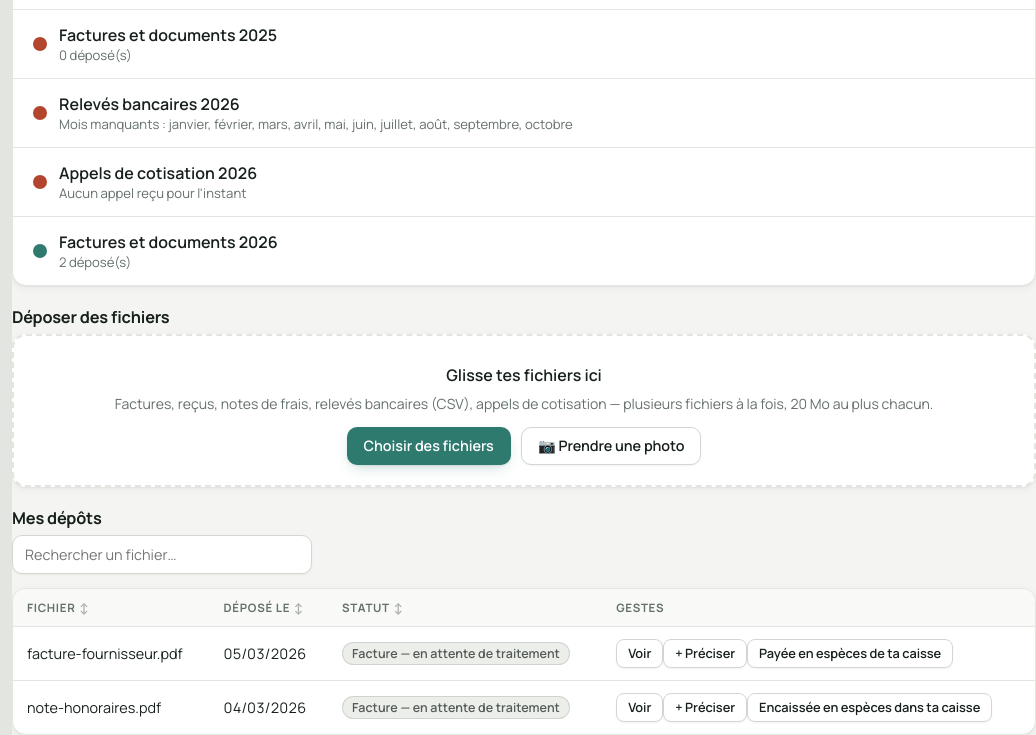
Test: le drapeau levé › après un geste, la liste se relit avec la caisse
(page scrolled)
Expected: the text "facture-fournisseur.pdf" is shown, [13,626,210,680]
Click the button "Payée en espèces de ta caisse".
click(850, 653)  # box [747,639,953,668]
(page scrolled)
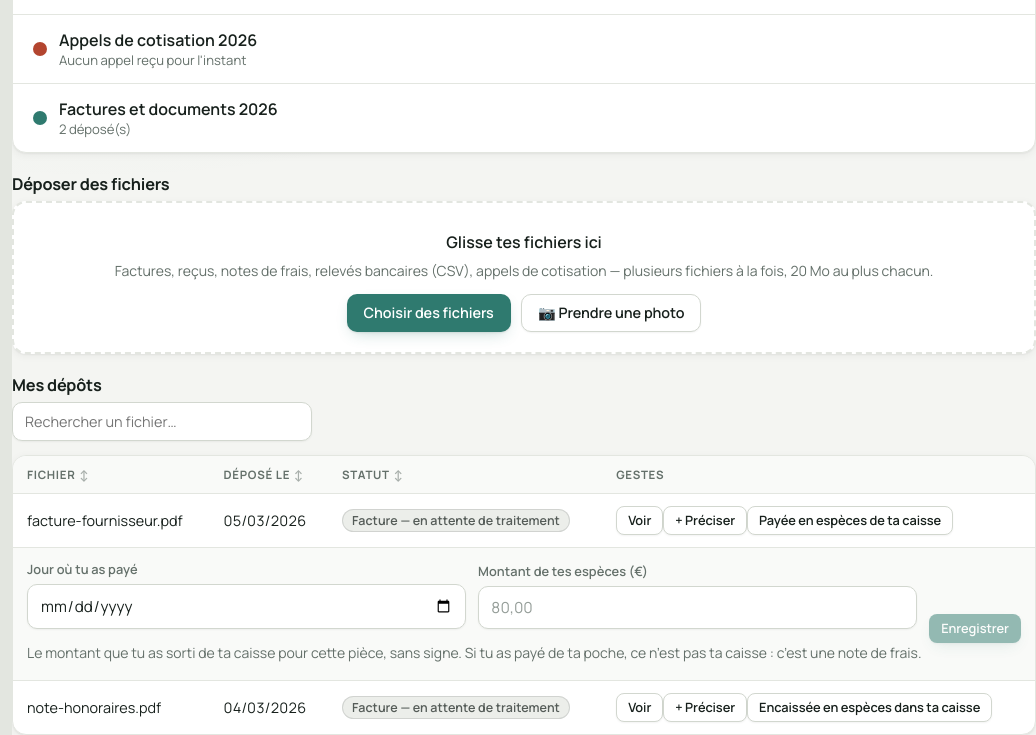
Type "2026-03-12" into the date field labelled "Jour où tu as payé".
click(247, 606); type("2026-03-12")  # box [27,584,466,629]
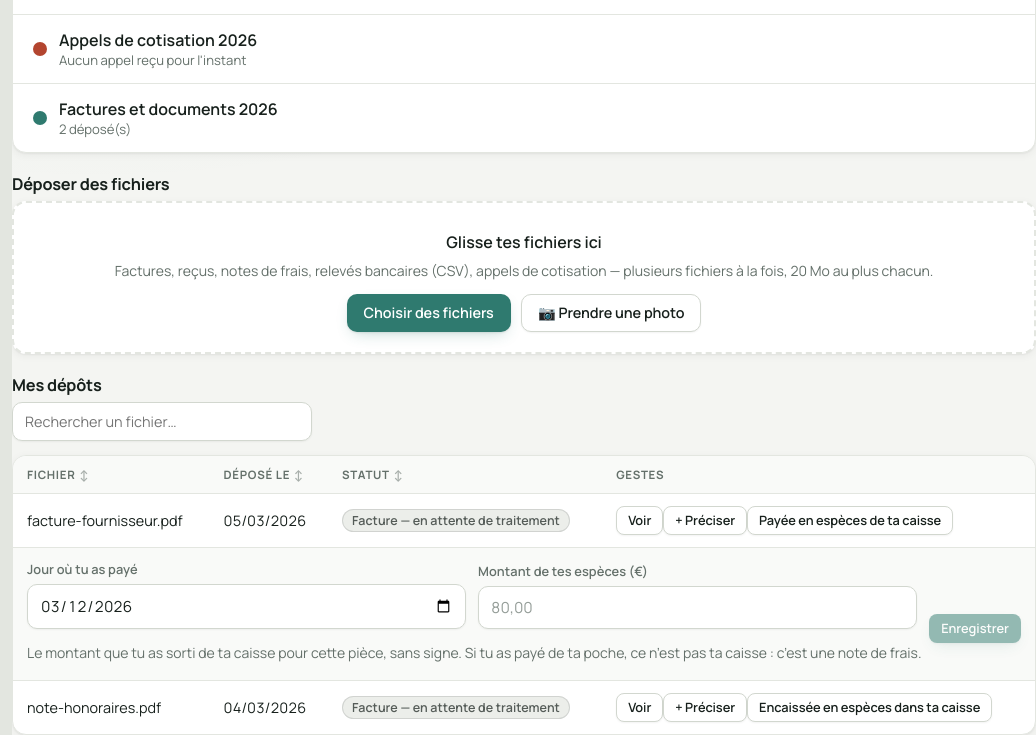
Type "10" into the field labelled "Montant de tes espèces (€)".
click(698, 608); type("10")  # box [478,586,917,629]
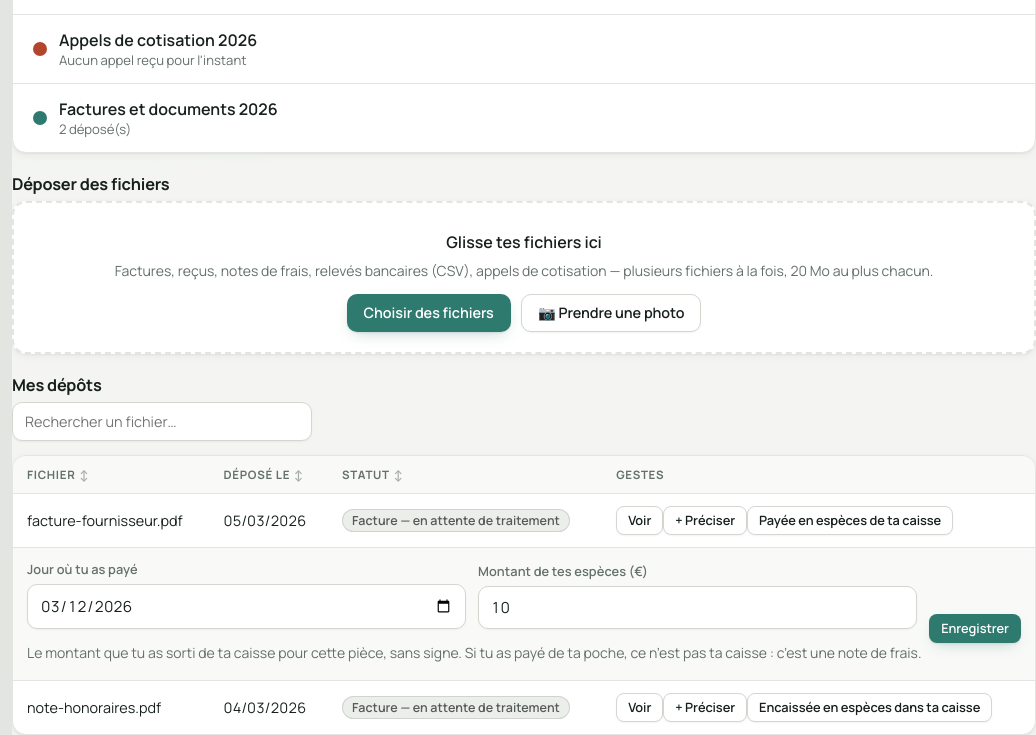
Click the button "Enregistrer".
click(975, 628)  # box [929,614,1021,643]
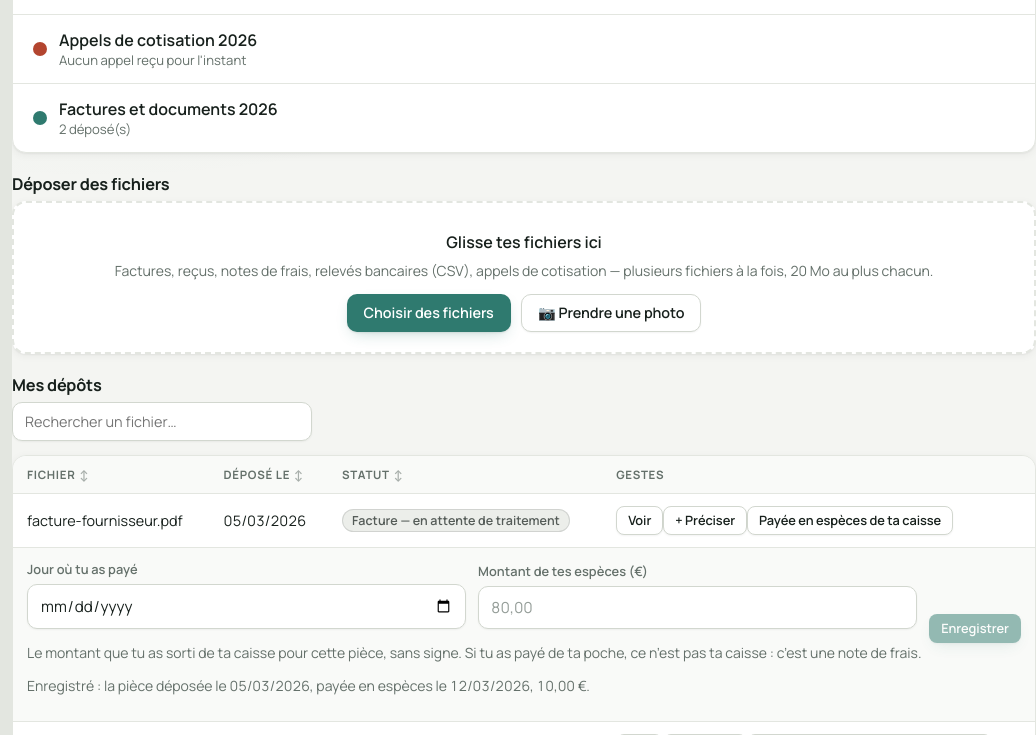
Result: the text "Enregistré : " is shown at [27,676,590,695]
